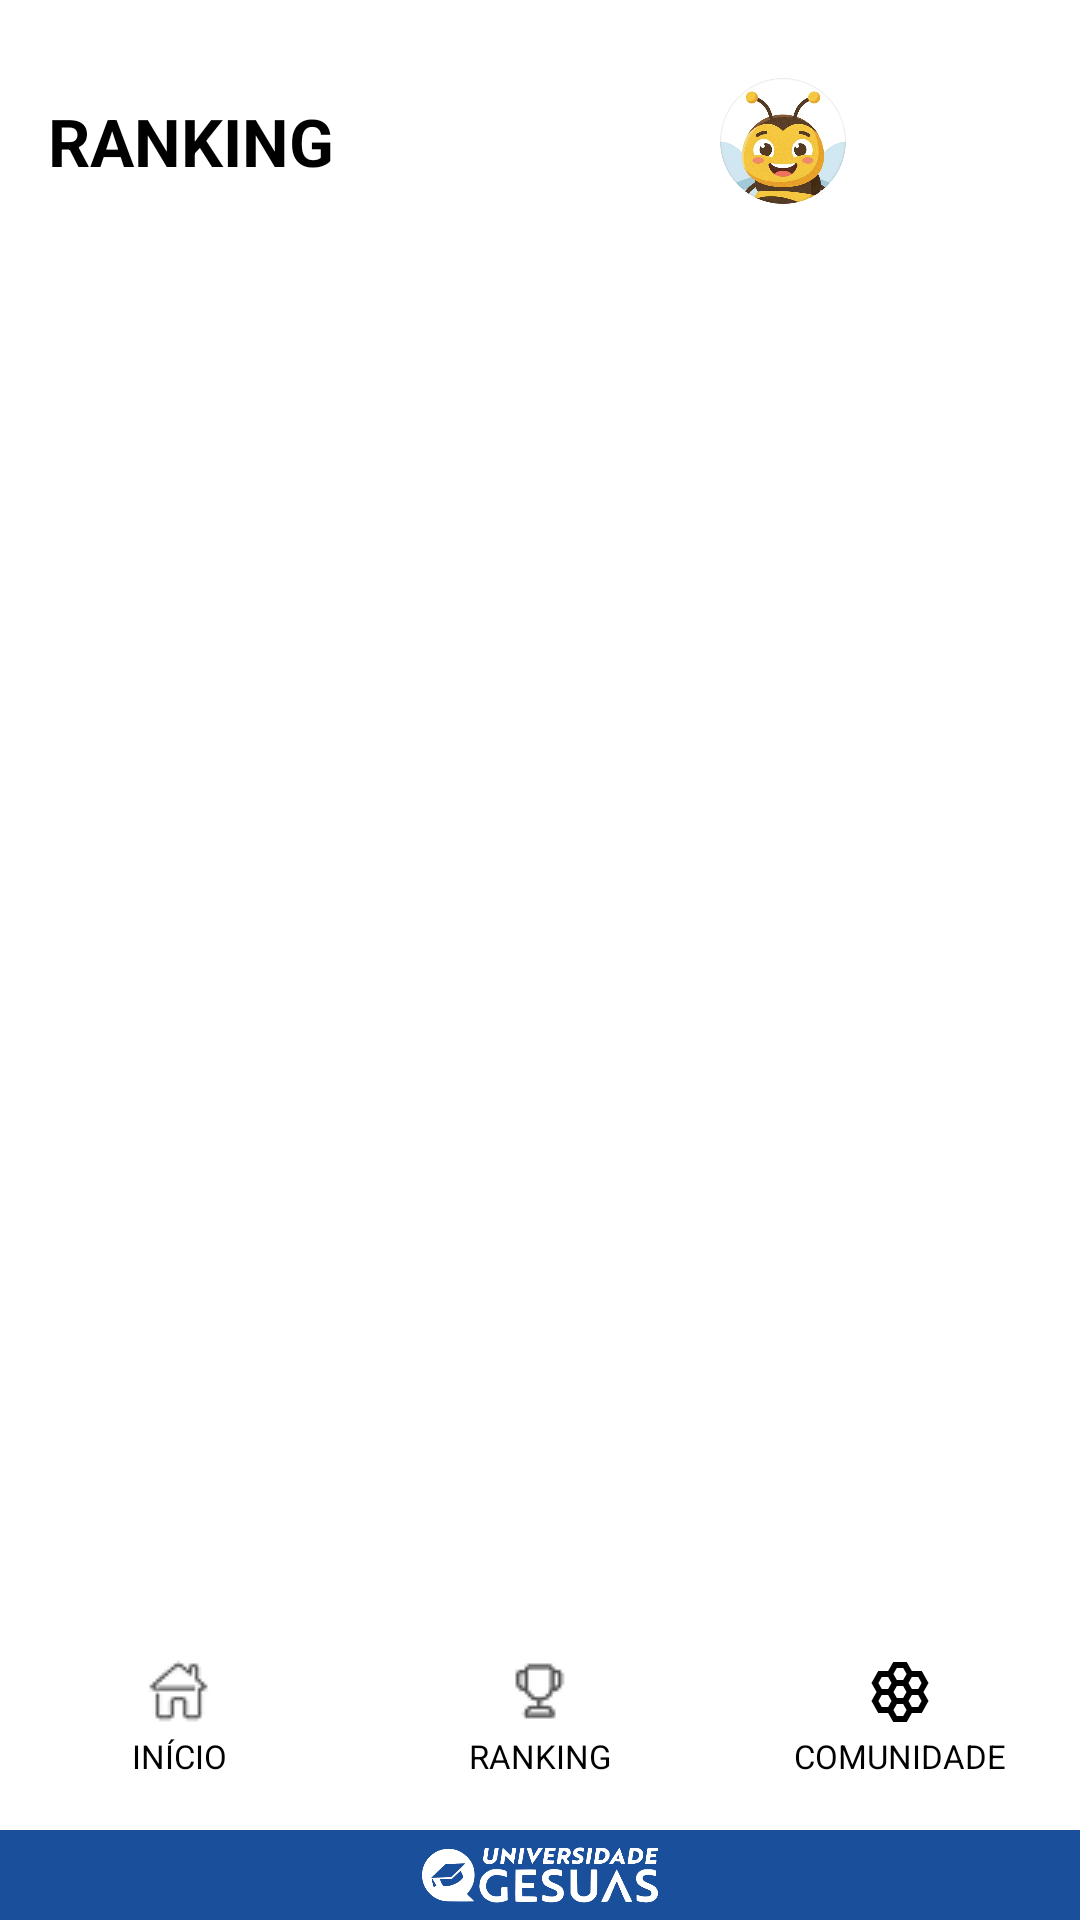

Icons on this 1080px×1920px Android screen, each with its box as (x1, y1, x2, y2):
perfil beea: (720, 91, 846, 204)
